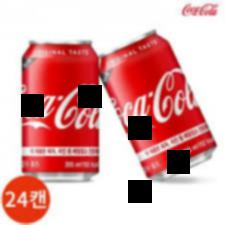cocacola: (20, 35, 101, 185)
